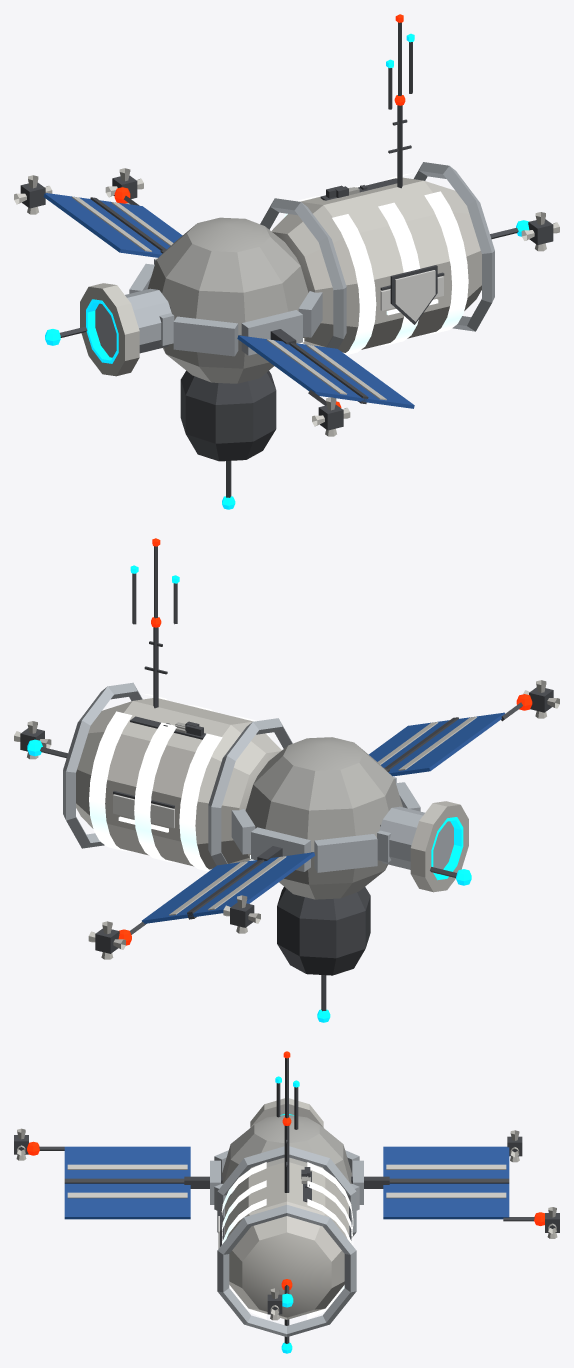
File: office.glb
3 renders of one model, top to bottom at view 1: azimuth 30°, elevation 25°; view 2: azimuth 150°, elevation 25°; view 3: azimuth 270°, elevation 25°, orthographic. The views are drawn at different scales.
Parts seen in each view (by area): view 1: office; view 2: office; view 3: office.
Part boxes in pixels (box(x1,y1,x2,y2)): office: box(14, 14, 559, 509); office: box(14, 538, 559, 1022); office: box(14, 1051, 559, 1353).
Size of the model in its own units: 1.51 by 1.34 by 1.78.
